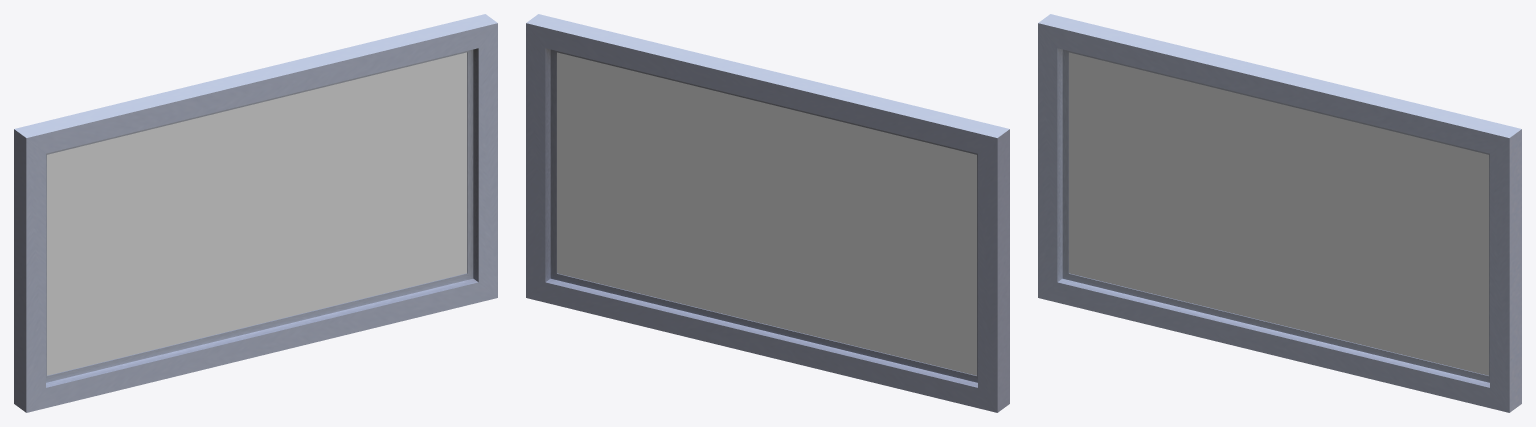
File: window01.fbx
3 views of the same model, side by side, from view 1: azimuth 30°, elevation 25°; view 2: azimuth 150°, elevation 25°; view 3: azimuth 330°, elevation 25° (orthographic).
Parts seen in each view (by area): view 1: Cube; view 2: Cube; view 3: Cube.
Boxes of the visible parts, x1,y1,x2,y2 form: Cube: [14, 14, 497, 412]; Cube: [526, 14, 1009, 412]; Cube: [1038, 14, 1521, 412].
Bounding box in the file's own units: 2.34 × 0.1072 × 1.3.
2 materials, 1 textured.
